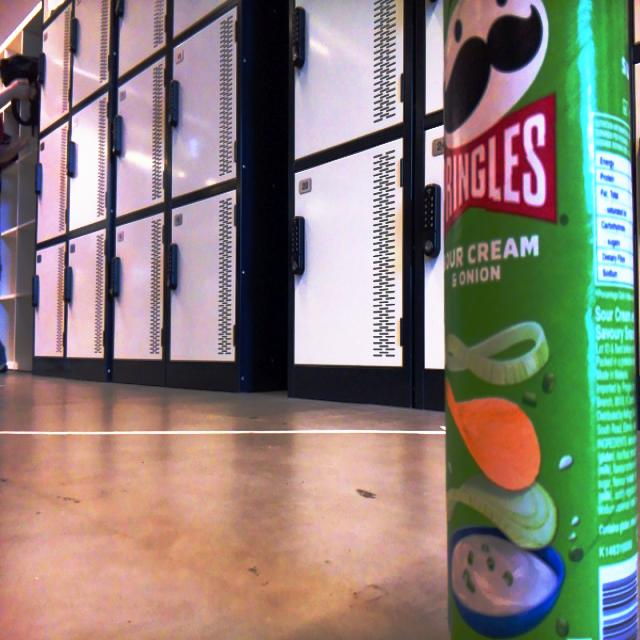greenpringles: (403, 0, 640, 640)
